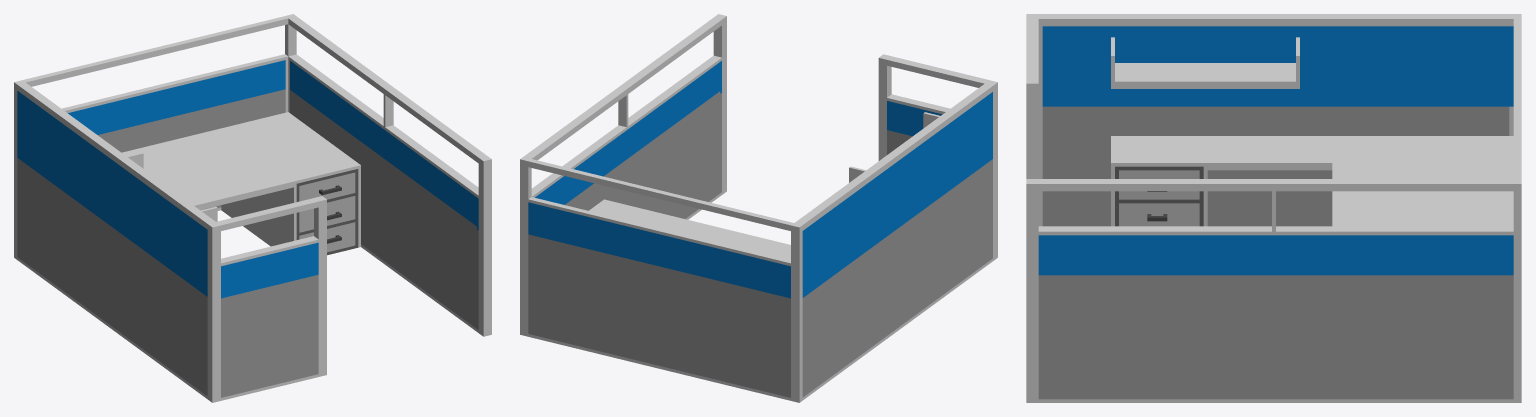
The model's file is cubicle.fbx.
The picture shows the model from 3 angles, left to right: view 1: azimuth 30°, elevation 25°; view 2: azimuth 150°, elevation 25°; view 3: azimuth 270°, elevation 25°; orthographic projection. The views are drawn at different scales.
Parts seen in each view (by area): view 1: cubicle; view 2: cubicle; view 3: cubicle.
Part boxes in pixels (bbox=[...]): cubicle: bbox=[14, 14, 491, 402]; cubicle: bbox=[520, 14, 997, 402]; cubicle: bbox=[1026, 14, 1521, 402].
Bounding box in the file's own units: 1000 × 600 × 1230.
